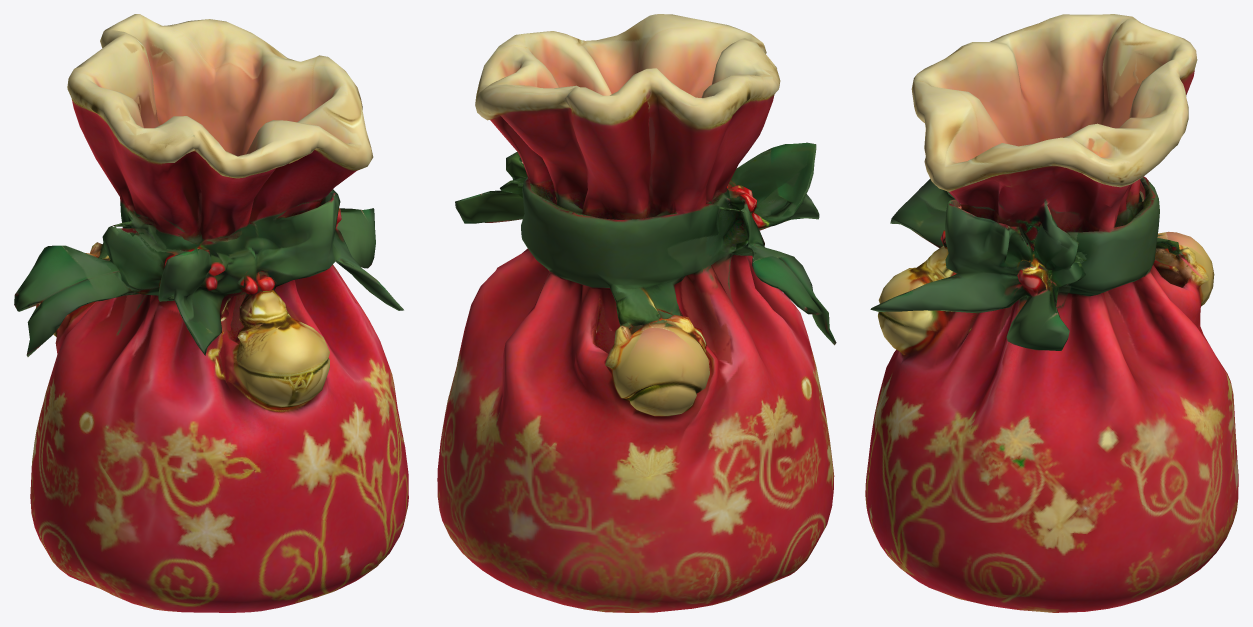
The model's file is A_small_magical_pouch_0831150116_texture.fbx.
The picture shows the model from 3 angles, left to right: view 1: azimuth 30°, elevation 25°; view 2: azimuth 150°, elevation 25°; view 3: azimuth 270°, elevation 25°; orthographic projection. The views are drawn at different scales.
Parts seen in each view (by area): view 1: input; view 2: input; view 3: input.
Boxes of the visible parts, x1,y1,x2,y2 form: input: (14, 14, 408, 612); input: (437, 14, 836, 612); input: (865, 14, 1238, 612).
Bounding box in the file's own units: 113 × 155 × 102.
1 material, 1 textured.
